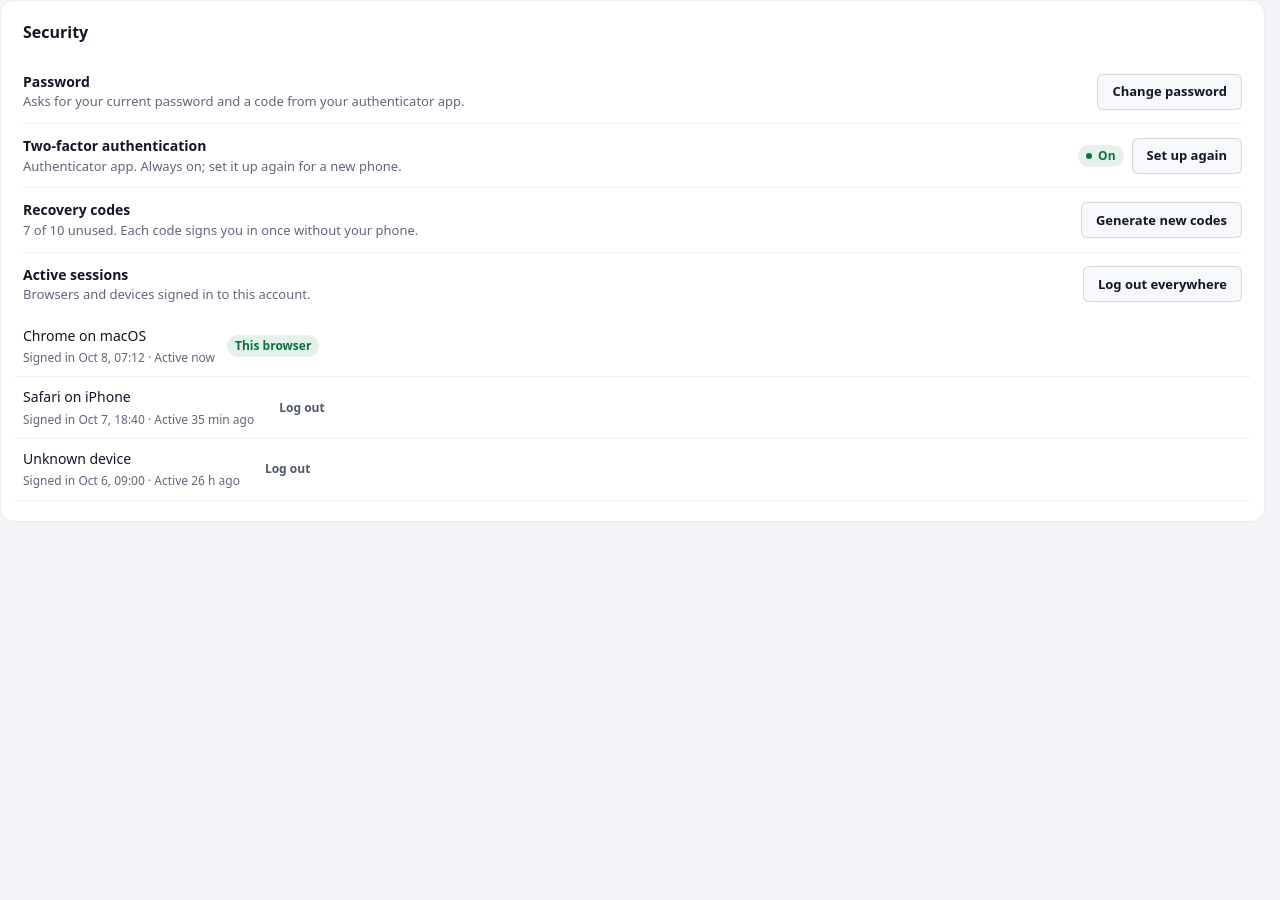
Scenario: Settings → Security (PR-AUTH-4) › logs out one other session after a confirmation
Click the button with aria-label "Log out Safari on iPhone". click: (302, 408)
box: [266,392,338,424]
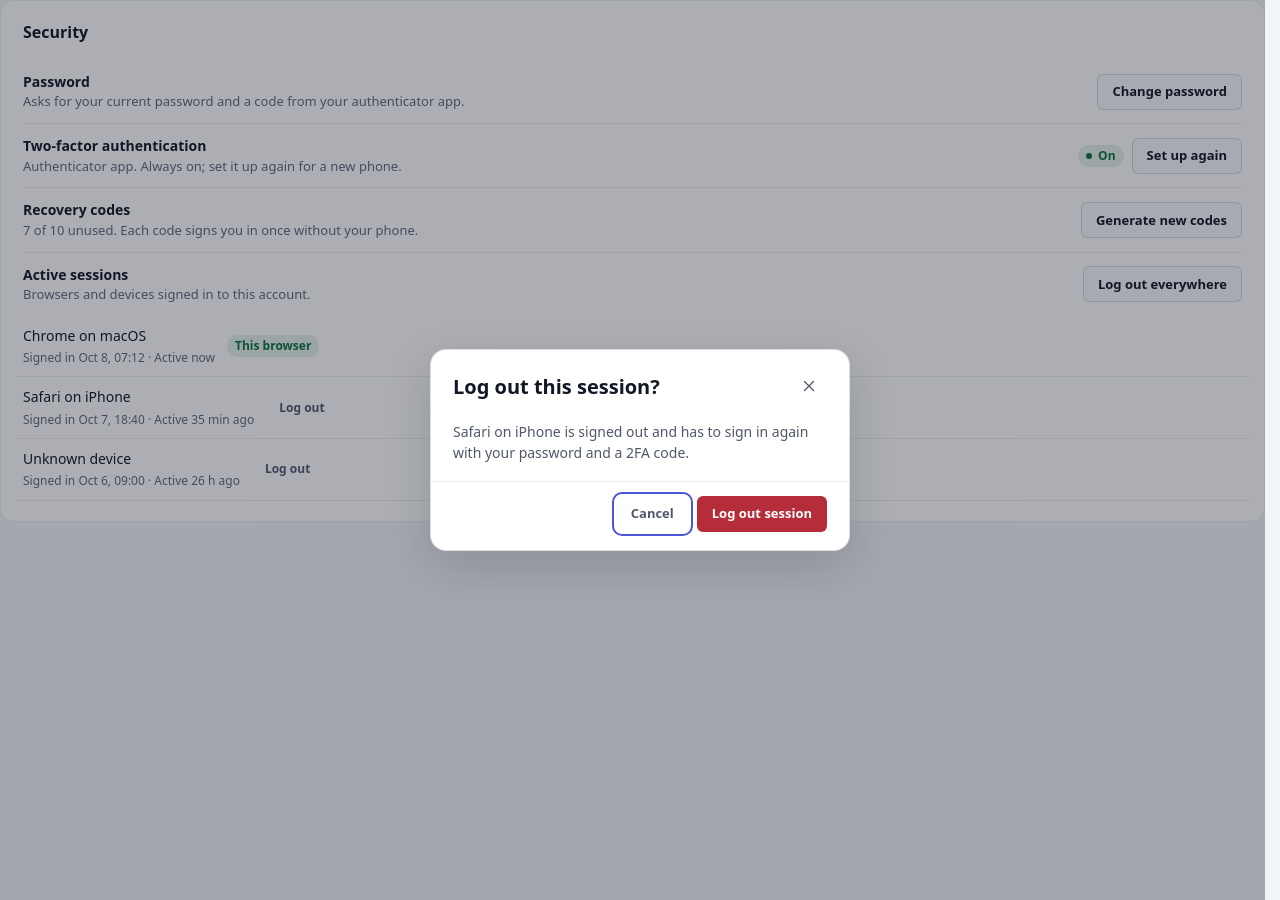
Expected: the dialog "Log out this session?" shows "Safari on iPhone is signed out", [430,349,850,551]
Click the button "Cancel". click: (652, 514)
box: [616,496,689,532]
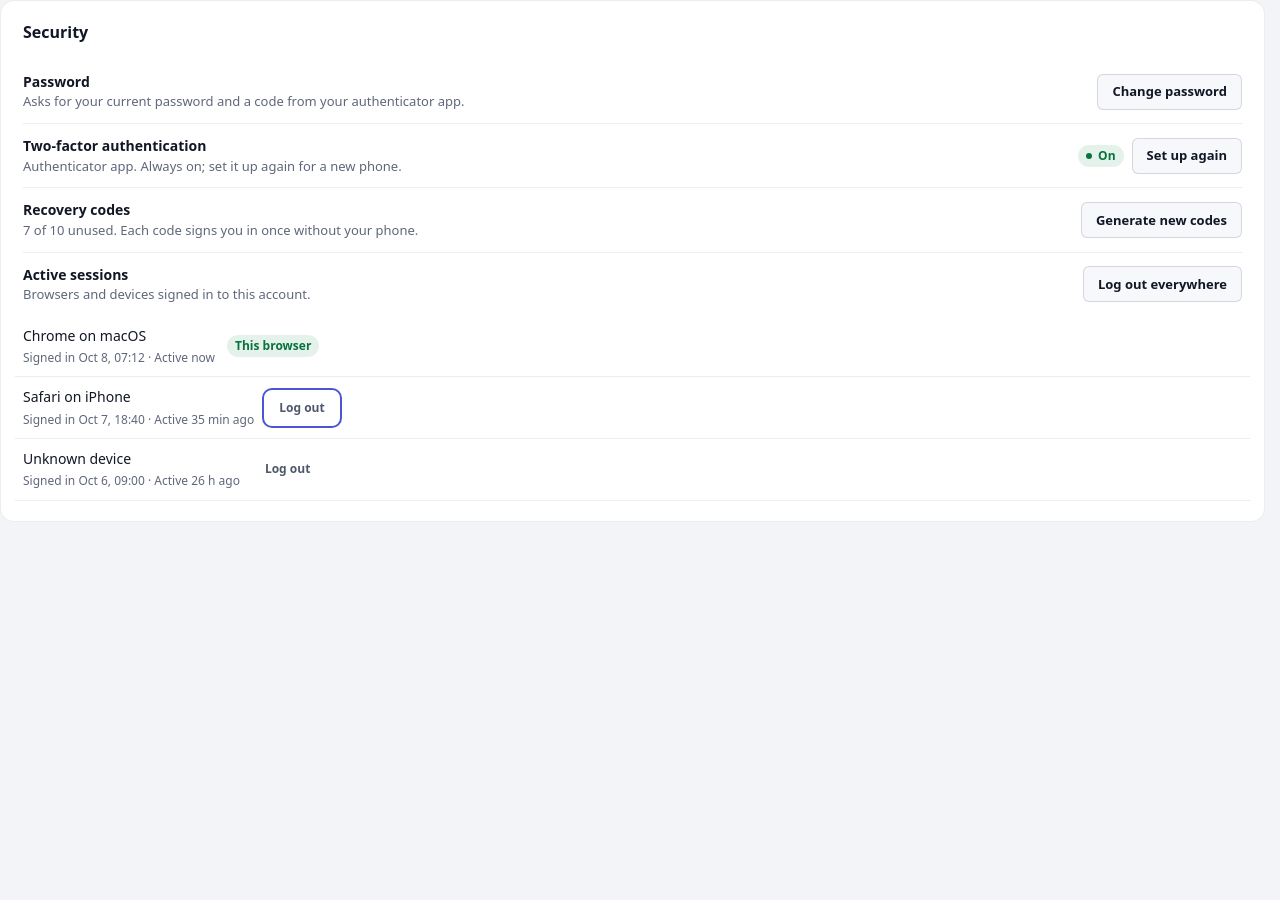
Click the button with aria-label "Log out Safari on iPhone". click: (302, 408)
box: [266,392,338,424]
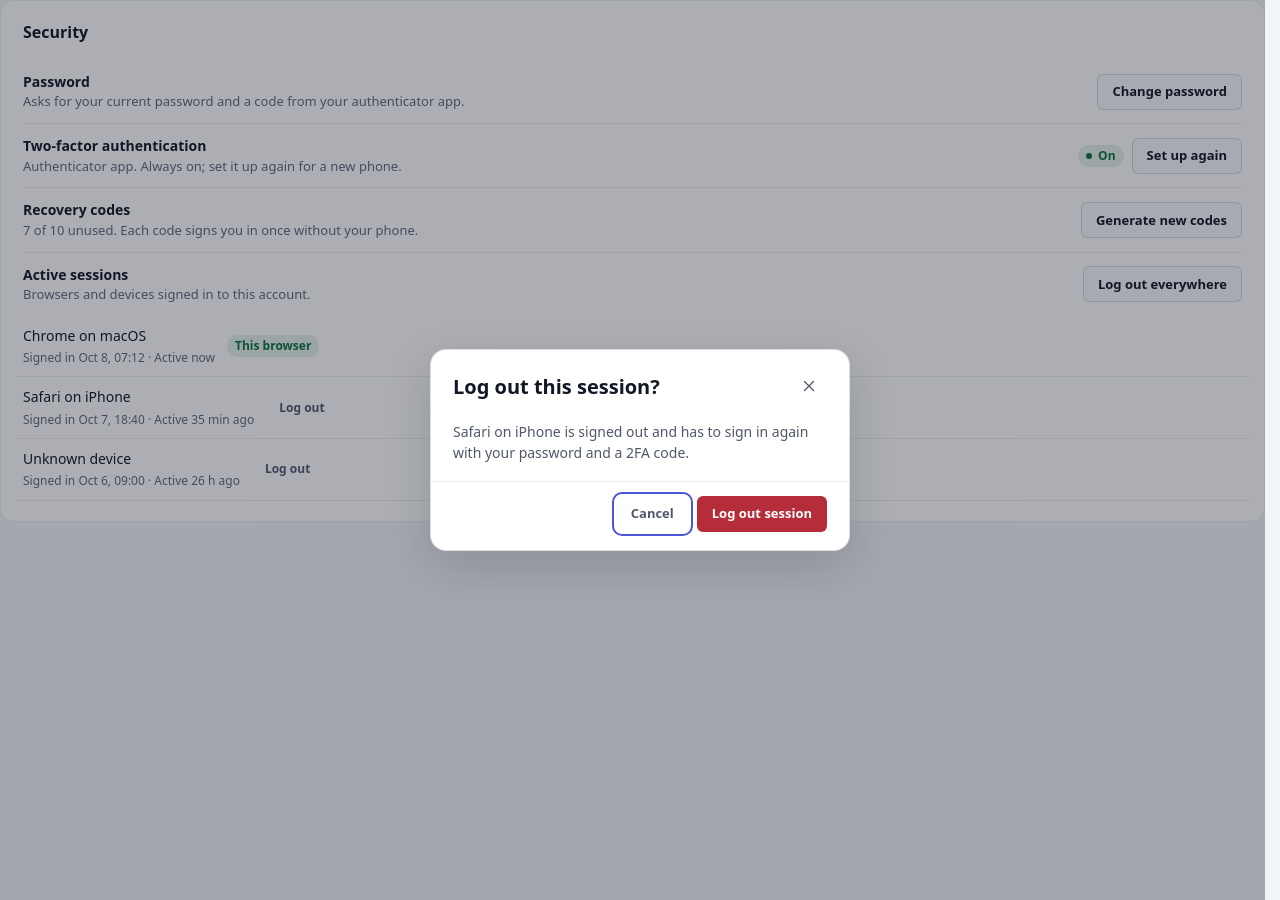
Click the button "Log out session". click: (762, 514)
box: [697,496,827,532]
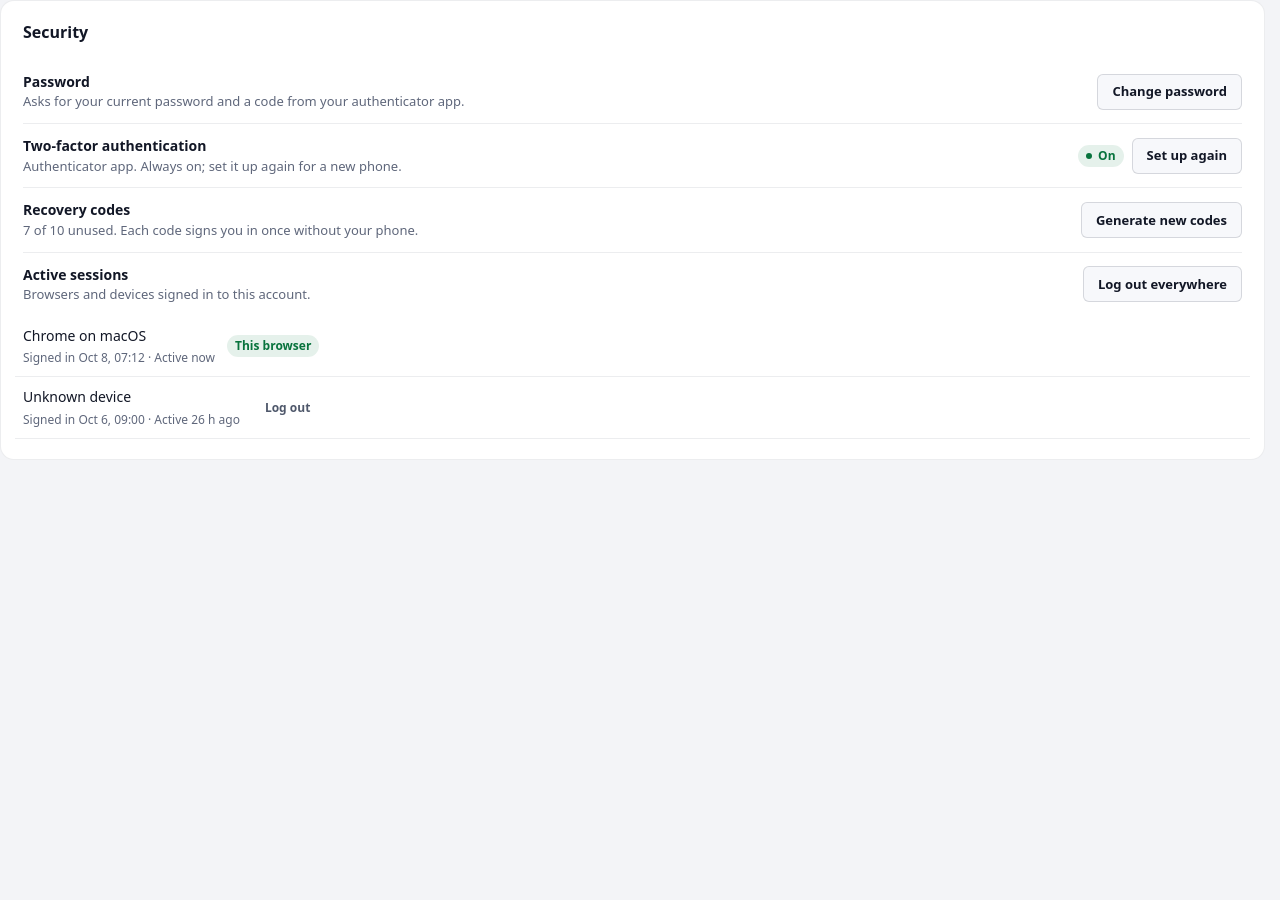
Expected: the text "Safari on iPhone" is gone
Expected: the dialog is gone
